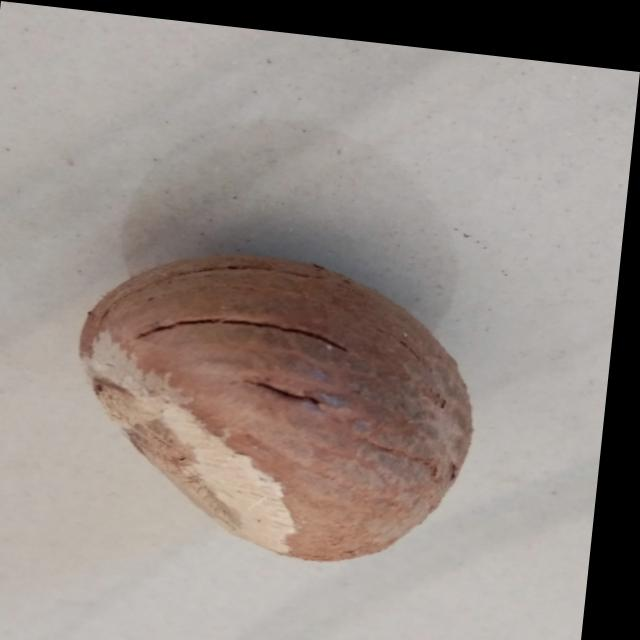phatora: (35, 233, 509, 574)
